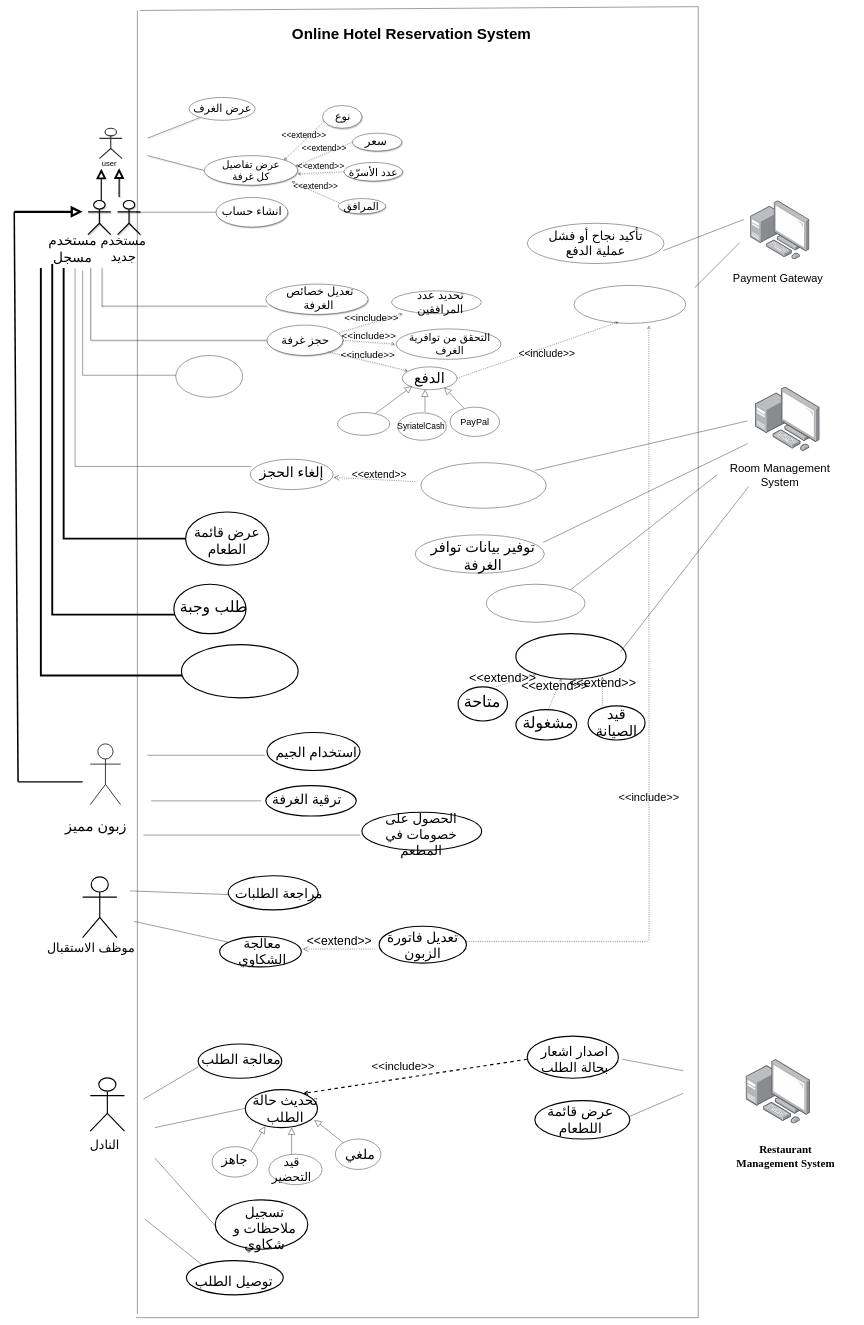
Image size: 864x1325. Some labels were removed from this diagram. The shapes that lost their labels are listed below. From the top down, each one's centre as x and y in pixels, then its label:
point (630, 304): معالجة المدفعوعات
point (209, 376): تقديم شكوى
point (363, 423): MTNCash
point (483, 485): إصدار إشعار بإلغاء الحجز
point (535, 603): تحديث بيانات الغرفة
point (239, 671): حجز طاولة في المطعم
point (570, 656): تحديث حالة الغرفة
